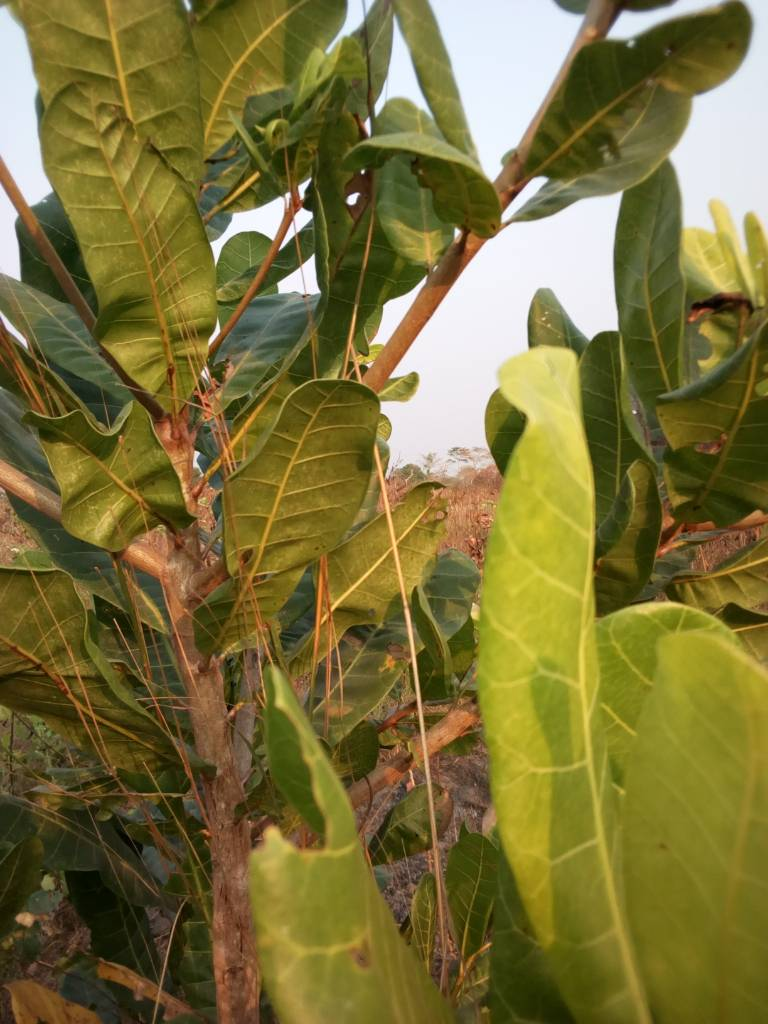Helopeltis anacardii: (40, 82, 218, 397), (247, 736, 441, 1014), (524, 1, 749, 163), (224, 377, 383, 582), (38, 405, 190, 550), (344, 130, 507, 239)
